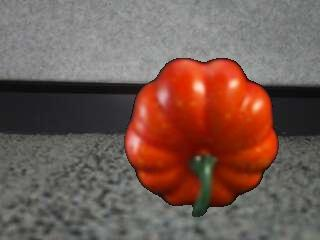Pumpkin: (122, 56, 280, 218)
